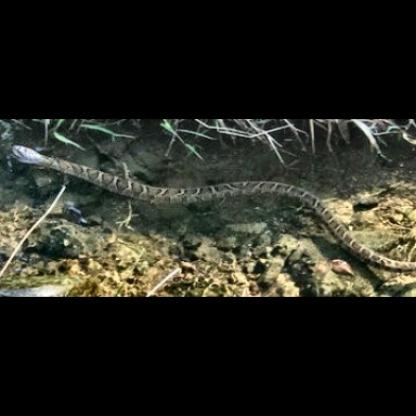Snake: (10, 137, 416, 273)
